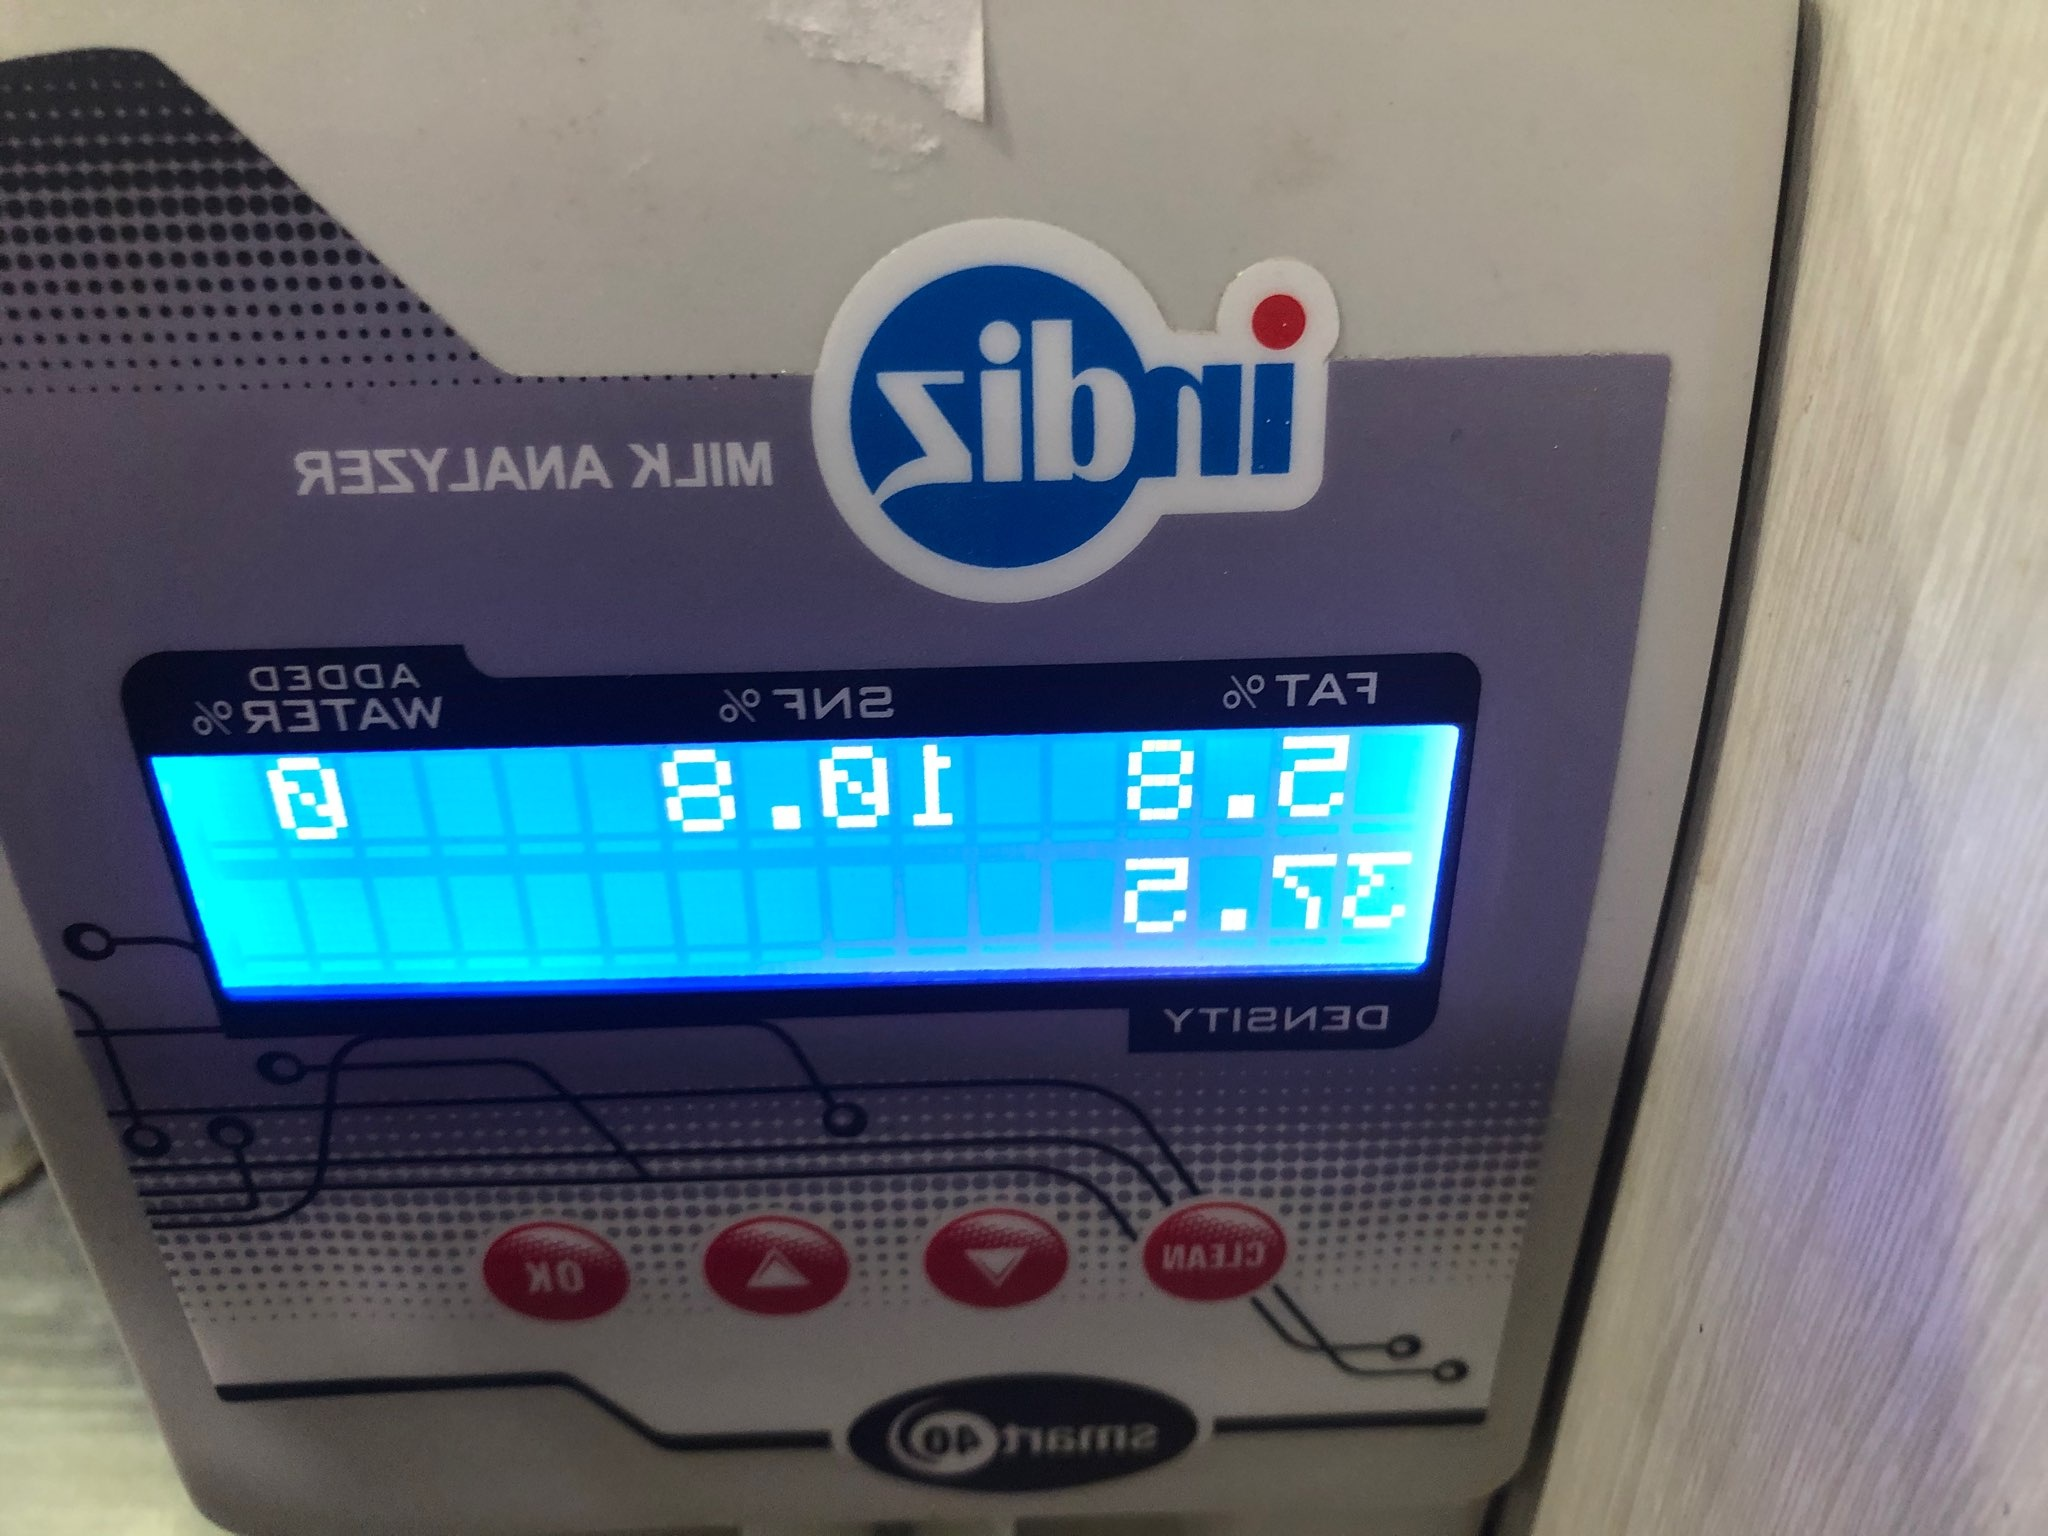lcd: (137, 631, 1505, 1062)
